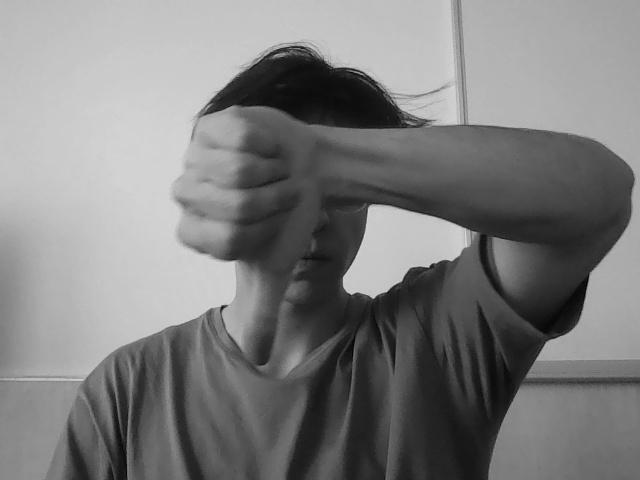bad: (169, 91, 337, 373)
